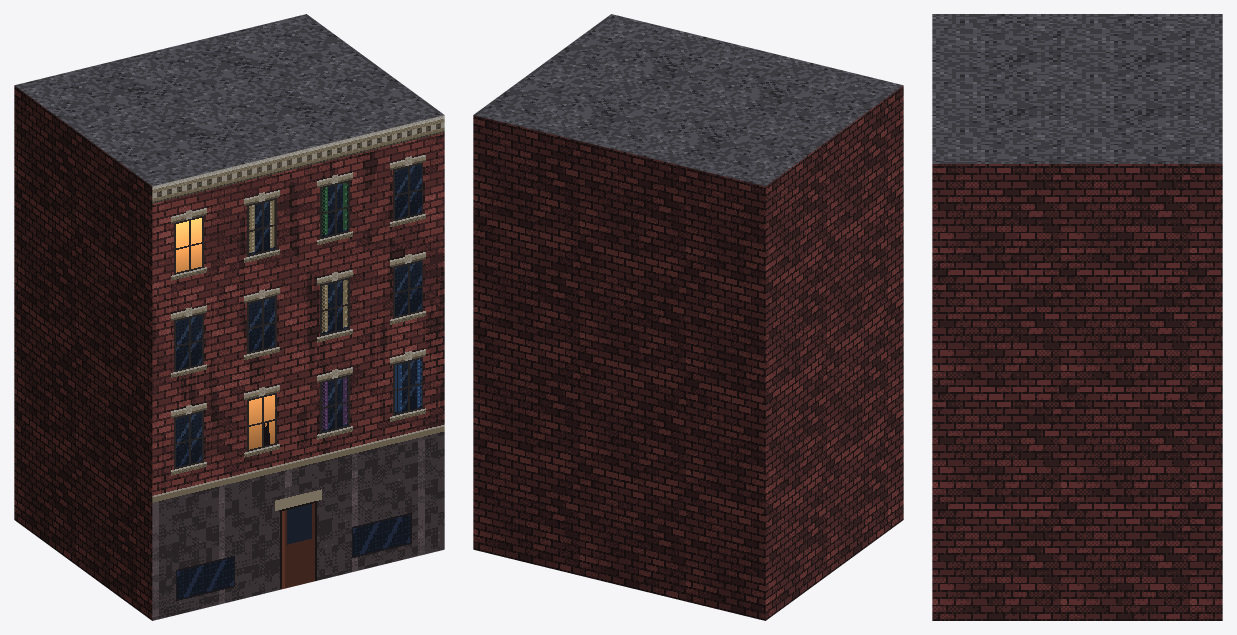
Rendered from Kulisse_1.glb.
3 views of the same model, side by side, from view 1: azimuth 30°, elevation 25°; view 2: azimuth 150°, elevation 25°; view 3: azimuth 270°, elevation 25° (orthographic). The views are drawn at different scales.
Visible parts, largest first — view 1: Kulisse_1; view 2: Kulisse_1; view 3: Kulisse_1.
Part boxes in pixels (bbox=[...]): Kulisse_1: bbox=[14, 14, 444, 620]; Kulisse_1: bbox=[473, 14, 903, 620]; Kulisse_1: bbox=[932, 14, 1222, 620].
Bounding box in the file's own units: 11 × 15.62 × 9.
3 materials, 3 textured.
